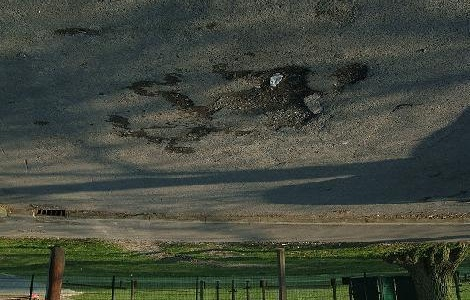pothole: (214, 63, 322, 135), (158, 91, 214, 121), (328, 61, 372, 90)
